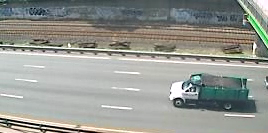car: (166, 70, 253, 114)
